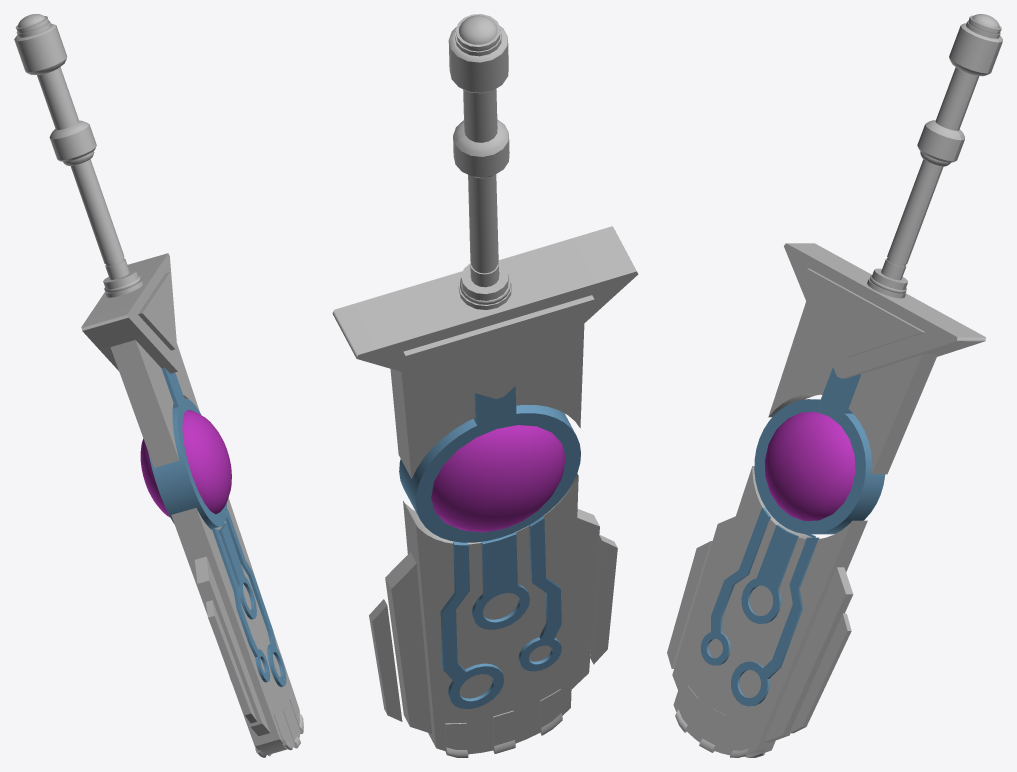
File: transistor.fbx
3 views of the same model, side by side, from view 1: azimuth 30°, elevation 25°; view 2: azimuth 150°, elevation 25°; view 3: azimuth 270°, elevation 25° (orthographic). The views are drawn at different scales.
Visible parts, largest first — view 1: Gold_Big_low.001; view 2: Gold_Big_low.001; view 3: Gold_Big_low.001.
Part boxes in pixels (x1,y1,x2,y2): Gold_Big_low.001: [14, 14, 303, 757]; Gold_Big_low.001: [332, 14, 638, 757]; Gold_Big_low.001: [667, 14, 1002, 757].
Bounding box in the file's own units: 155 × 509 × 227.
